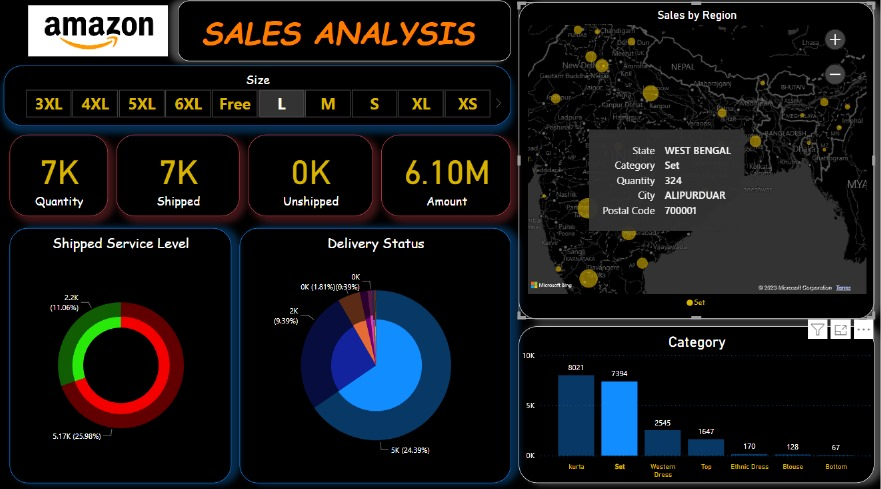

Layout of this report page (visuals, bound fields, positions):
{"tool":"powerbi","page":{"name":"Page 1","canvas":[1420,800],"ordinal":0},"visuals":[{"type":"slicer","title":"Size","fields":{"Values":["Amazon Sale Report.Size"]},"box":[9.4,112.6,816.1,96.5],"z":0},{"type":"textbox","box":[289.4,8,536,97.8],"z":1000},{"type":"columnChart","title":"Category","fields":{"Category":["Amazon Sale Report.Category"],"Y":["Sum(Amazon Sale Report.Quantity)"]},"box":[837.5,532,572.2,251.9],"z":2000},{"type":"card","fields":{"Values":["Sum(Amazon Sale Report.Quantity)"]},"box":[18.8,223.8,158.1,131.3],"z":3000},{"type":"map","title":"Sales by Region","fields":{"Category":["Amazon Sale Report.ship-state"],"Size":["Sum(Amazon Sale Report.Quantity)"],"Series":["Amazon Sale Report.Category"]},"box":[837.5,10.7,572.2,509.2],"z":4000},{"type":"card","fields":{"Values":["Sum(Amazon Sale Report.Shipped)"]},"box":[190.3,223.8,198.3,131.3],"z":5000},{"type":"card","fields":{"Values":["Sum(Amazon Sale Report.Unshipped)"]},"box":[402,223.8,201,131.3],"z":6000},{"type":"card","fields":{"Values":["Sum(Amazon Sale Report.Amount)"]},"box":[616.4,223.8,209,131.3],"z":7000},{"type":"pieChart","title":"Delivery Status","fields":{"Category":["Amazon Sale Report.Status"],"Y":["Sum(Amazon Sale Report.Quantity)"]},"box":[388.6,373.9,436.9,410.1],"z":8000},{"type":"donutChart","title":"Shipped Service Level","fields":{"Category":["Amazon Sale Report.ship-service-level"],"Y":["CountNonNull(Amazon Sale Report.ship-service-level)"]},"box":[18.8,373.9,356.4,410.1],"z":8001},{"type":"image","box":[9.4,10.7,302.8,92.5],"z":8002}]}

Visuals, with their boxes in screenshot pixels (x1, y1, x2, y2), scaled from the page's 1420x800 canvas onto the 881x489 screenshot:
"Size" slicer: Rect(6, 69, 512, 128)
textbox: Rect(180, 5, 512, 65)
"Category" columnChart: Rect(520, 325, 875, 479)
card - Sum(Amazon Sale Report.Quantity): Rect(12, 137, 110, 217)
"Sales by Region" map: Rect(520, 7, 875, 318)
card - Sum(Amazon Sale Report.Shipped): Rect(118, 137, 241, 217)
card - Sum(Amazon Sale Report.Unshipped): Rect(249, 137, 374, 217)
card - Sum(Amazon Sale Report.Amount): Rect(382, 137, 512, 217)
"Delivery Status" pieChart: Rect(241, 229, 512, 479)
"Shipped Service Level" donutChart: Rect(12, 229, 233, 479)
image: Rect(6, 7, 194, 63)
